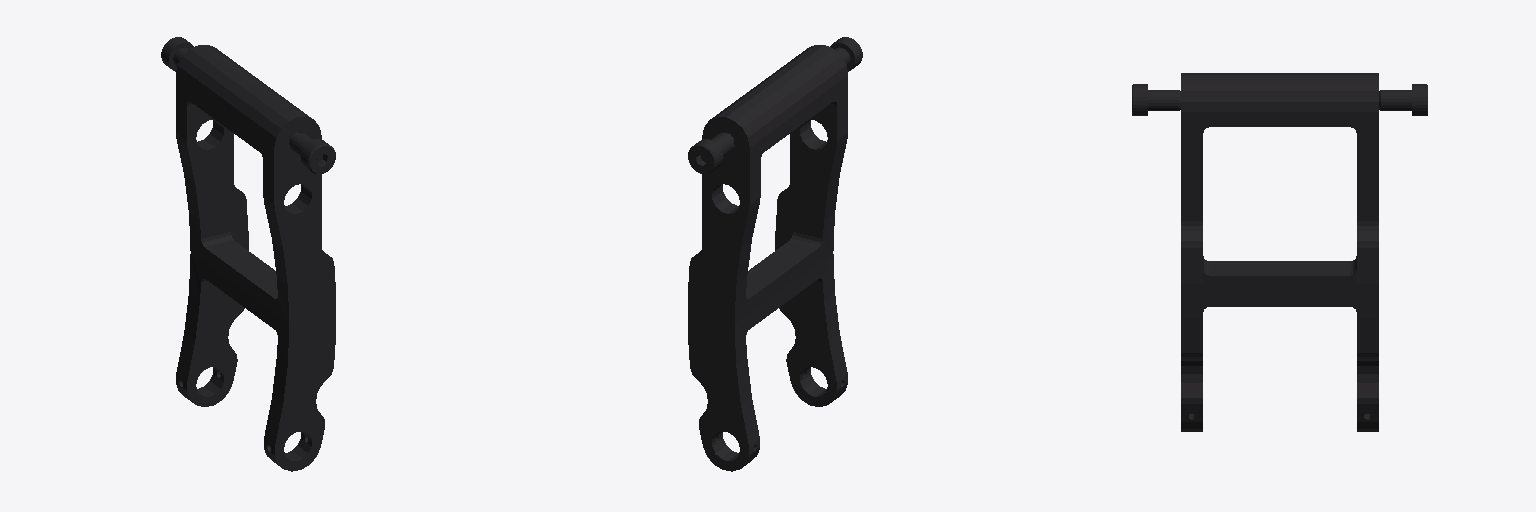
Rendered from pitch_mirror_link.OBJ.
The picture shows the model from 3 angles: view 1: azimuth 30°, elevation 25°; view 2: azimuth 150°, elevation 25°; view 3: azimuth 270°, elevation 25°; orthographic projection.
Visible parts, largest first — view 1: /ambf/env/neuro_robot/pitch_mirror_link_pitch_mirror_link; view 2: /ambf/env/neuro_robot/pitch_mirror_link_pitch_mirror_link; view 3: /ambf/env/neuro_robot/pitch_mirror_link_pitch_mirror_link.
Boxes of the visible parts, x1=… form: /ambf/env/neuro_robot/pitch_mirror_link_pitch_mirror_link: x1=161, y1=37, x2=335, y2=471; /ambf/env/neuro_robot/pitch_mirror_link_pitch_mirror_link: x1=688, y1=37, x2=862, y2=471; /ambf/env/neuro_robot/pitch_mirror_link_pitch_mirror_link: x1=1132, y1=73, x2=1427, y2=431.
Bounding box in the file's own units: 0.021 × 0.1144 × 0.0868.